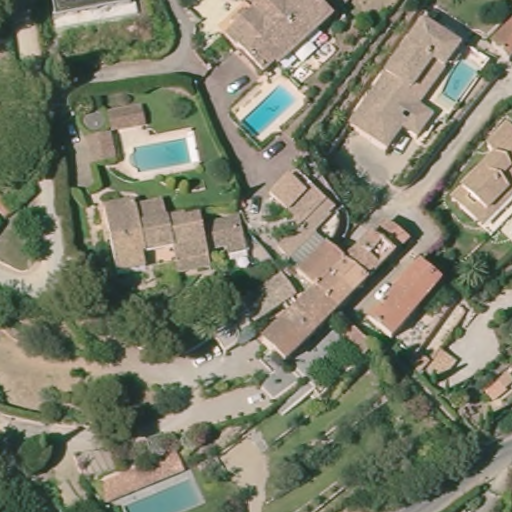pool: (104, 469, 204, 512), (237, 81, 302, 136), (124, 138, 199, 177), (442, 60, 481, 104)
